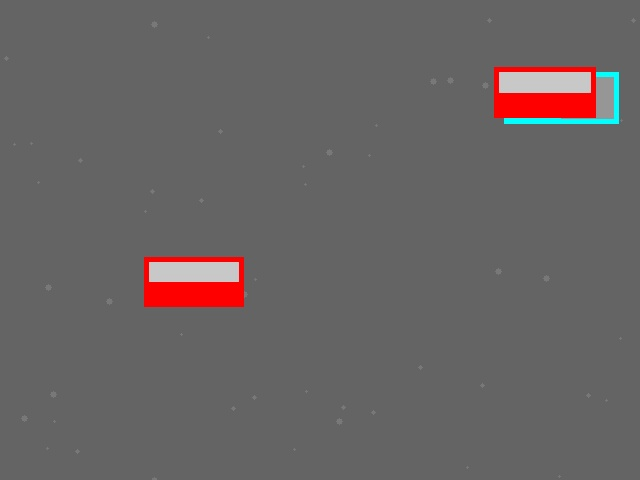car: (494, 67, 595, 117), (144, 257, 243, 306)
truck: (504, 72, 618, 123)
